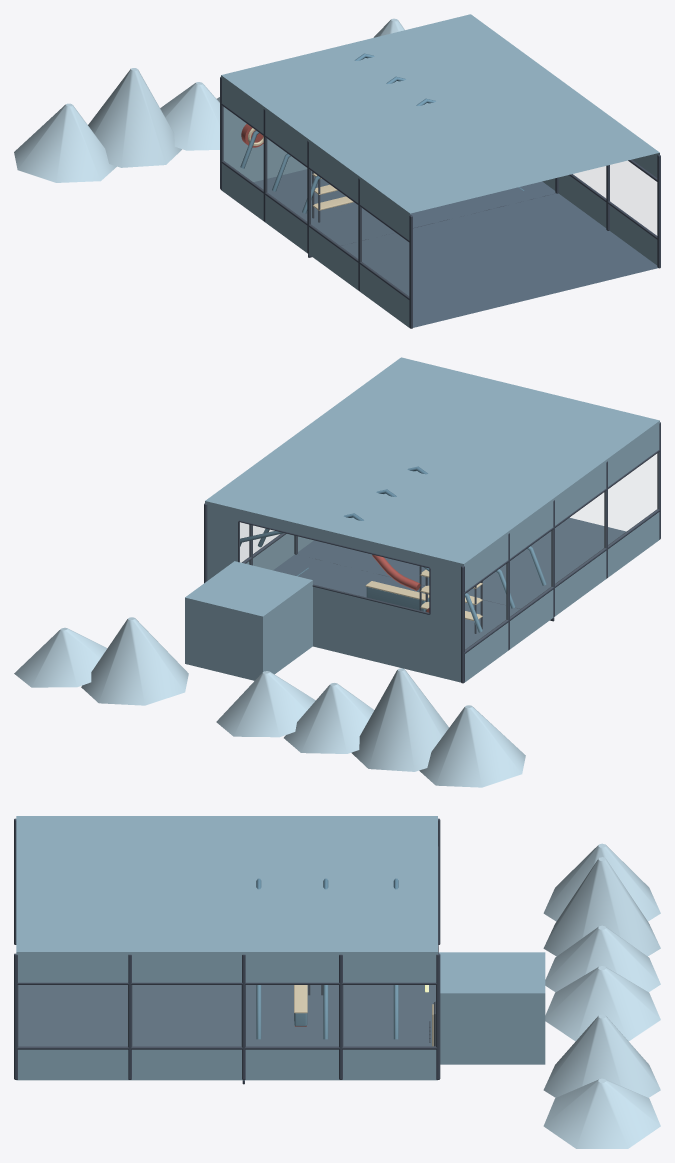
File: depot.glb
The picture shows the model from 3 angles, top to bottom: view 1: azimuth 30°, elevation 25°; view 2: azimuth 150°, elevation 25°; view 3: azimuth 270°, elevation 25°; orthographic projection. The views are drawn at different scales.
Parts seen in each view (by area): view 1: Roof panels - Wall, Floor extension - Floor, Outside the glazing - Glass rim, Port wall - Wall, Floor - Floor, Port wall - Rib, Starboard wall - Wall, Rear bulkhead - Wall, Starboard wall - Rib, Signature architecture - Secondary; view 2: Roof panels - Wall, Outside the glazing - Glass rim, Rear bulkhead - Wall, Port wall - Wall, Stockroom - Wall, Floor extension - Floor, Store lid - Wall, Floor - Floor, Port wall - Rib, Signature architecture - Secondary, Starboard wall - Wall, Rear bulkhead - Rib (+2 smaller); view 3: Roof panels - Wall, Outside the glazing - Glass rim, Starboard wall - Wall, Floor extension - Floor, Floor - Floor, Stockroom - Wall, Starboard wall - Rib, Store lid - Wall, Signature architecture - Secondary, Port wall - Rib.
Boxes of the visible parts, x1,y1,x2,y2 form: Roof panels - Wall: (221,14,659,213); Floor extension - Floor: (341,193,657,327); Outside the glazing - Glass rim: (14,18,404,182); Port wall - Wall: (221,75,410,327); Floor - Floor: (253,169,555,245); Port wall - Rib: (220,77,412,328); Starboard wall - Wall: (542,153,659,265); Rear bulkhead - Wall: (223,107,307,181); Starboard wall - Rib: (555,154,660,268); Signature architecture - Secondary: (240,53,435,213); Roof panels - Wall: (205,357,659,563); Outside the glazing - Glass rim: (14,617,525,787); Rear bulkhead - Wall: (205,501,463,682); Port wall - Wall: (464,421,659,682); Stockroom - Wall: (185,580,312,680); Floor extension - Floor: (297,517,626,608); Store lid - Wall: (185,561,312,616); Floor - Floor: (273,554,519,649); Port wall - Rib: (461,422,660,683); Signature architecture - Secondary: (240,466,546,632); Starboard wall - Wall: (246,534,313,570); Rear bulkhead - Rib: (238,520,430,614); Roof panels - Wall: (16,816,437,951); Outside the glazing - Glass rim: (543,843,660,1148); Starboard wall - Wall: (16,952,437,1080); Floor extension - Floor: (18,985,241,1046); Floor - Floor: (246,985,435,1046); Stockroom - Wall: (440,993,545,1064); Starboard wall - Rib: (14,953,440,1079); Store lid - Wall: (438,952,545,993); Signature architecture - Secondary: (256,878,398,1039); Port wall - Rib: (14,818,440,944).
Size of the model in its own units: 36.79 by 9.76 by 38.64.
